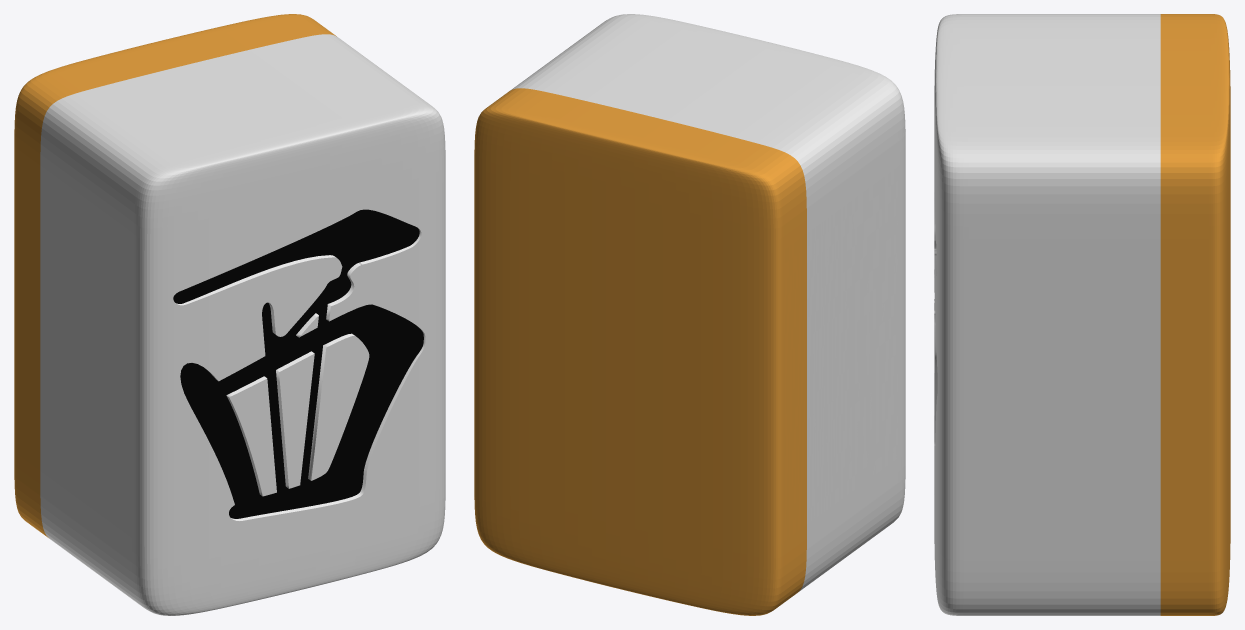
File: Shaa.fbx
The picture shows the model from 3 angles, left to right: view 1: azimuth 30°, elevation 25°; view 2: azimuth 150°, elevation 25°; view 3: azimuth 270°, elevation 25°; orthographic projection. The views are drawn at different scales.
Parts seen in each view (by area): view 1: Shaa; view 2: Shaa; view 3: Shaa.
Part boxes in pixels (bbox=[...]): Shaa: bbox=[14, 14, 445, 615]; Shaa: bbox=[474, 14, 905, 615]; Shaa: bbox=[934, 14, 1230, 615].
Size of the model in its own units: 2 by 2.8 by 1.59.
